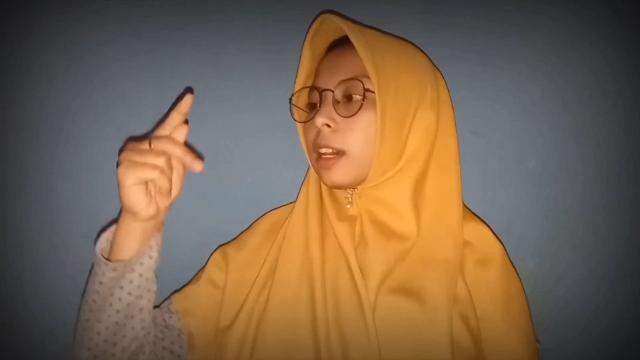K: (114, 89, 206, 228)
